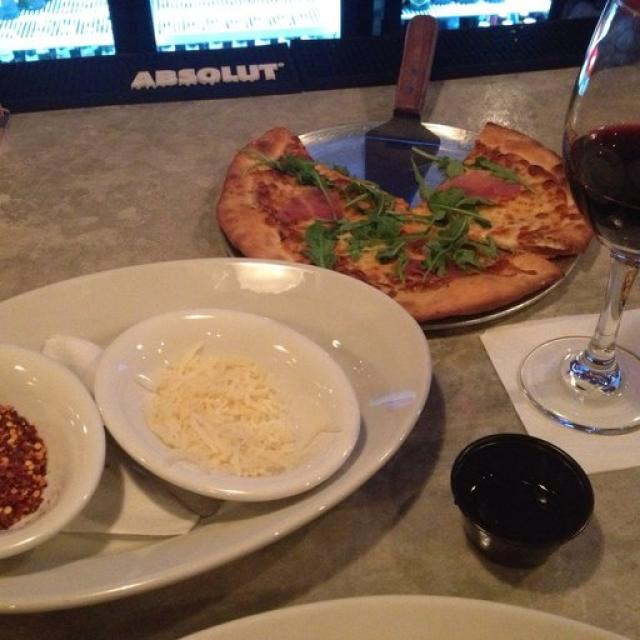Ham: (444, 176, 517, 202), (282, 190, 340, 220)
Pizza: (214, 122, 592, 332)
Rucola: (426, 224, 499, 267), (475, 158, 537, 194), (434, 190, 488, 228), (266, 157, 330, 189), (348, 214, 398, 254), (394, 230, 426, 273), (306, 226, 338, 266), (344, 182, 384, 209), (442, 161, 466, 177), (405, 213, 433, 224)
